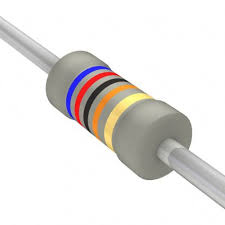resistor: (33, 45, 206, 187)
